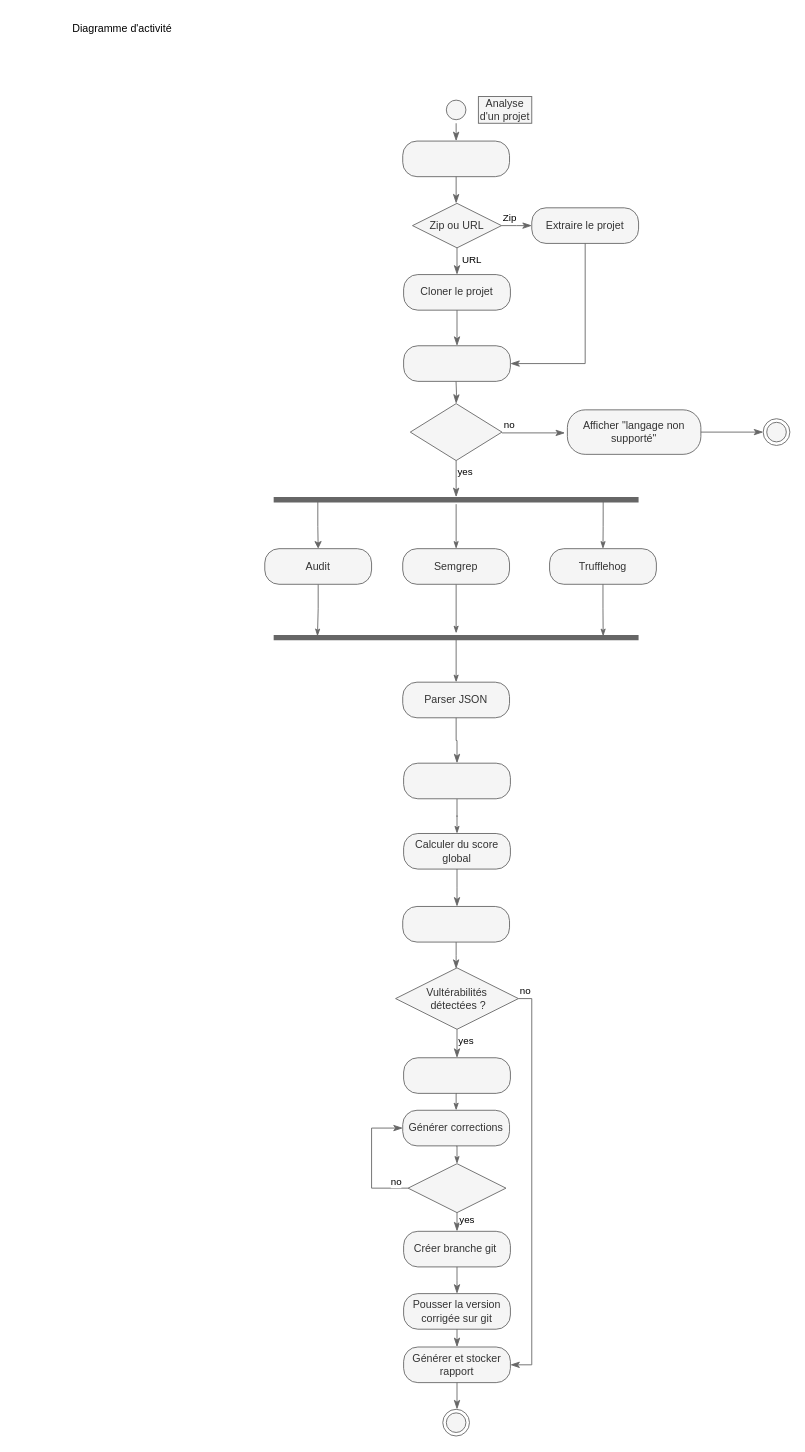
Some shapes in this 805 by 1452 pixel diagram are drawn without their labels. Each missing label, with the box of its shape:
Afficher le dashboard: (402, 906, 510, 942)
Choisir les corrections: (403, 1057, 510, 1093)
Corrections validées ?: (407, 1163, 506, 1213)
Détecter le langage: (403, 345, 510, 381)
Langage supporté ?: (409, 403, 502, 461)
Mapper catégories OWASP: (403, 762, 510, 799)
Soumettre projet: (402, 140, 510, 177)
